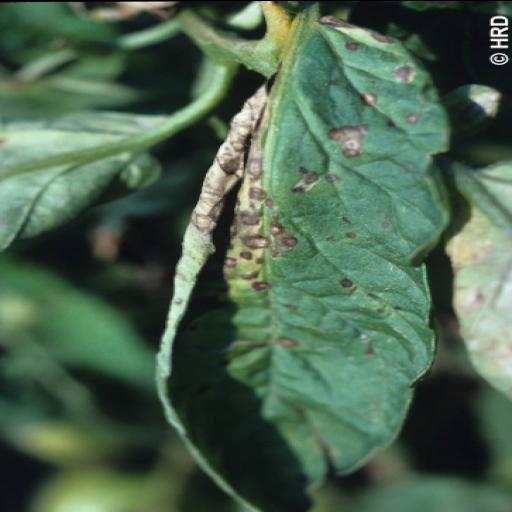Septoria: (148, 16, 458, 512)
